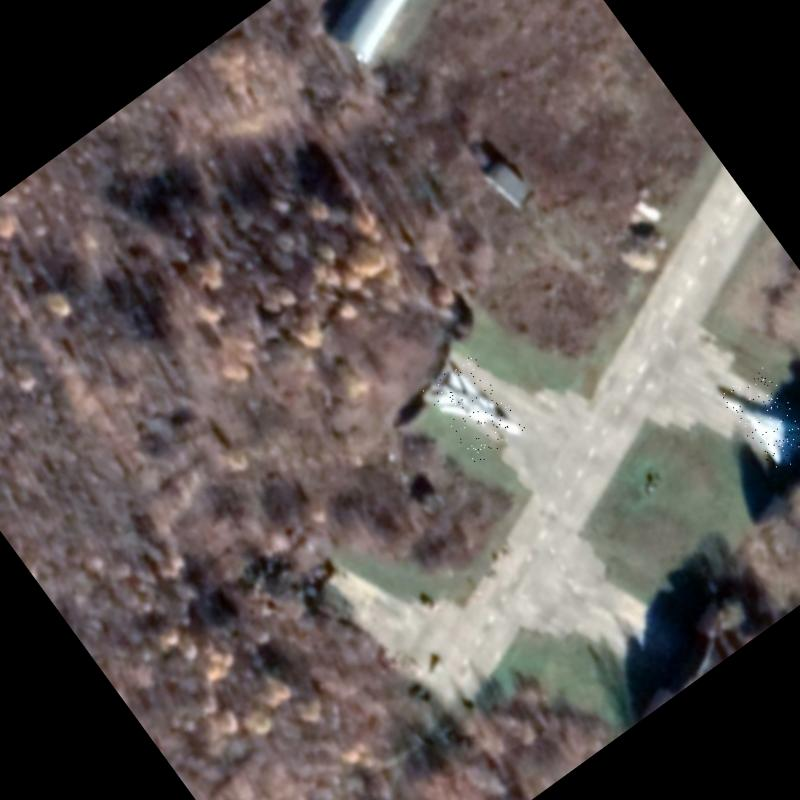A20: (421, 352, 527, 465), (718, 364, 800, 474)
